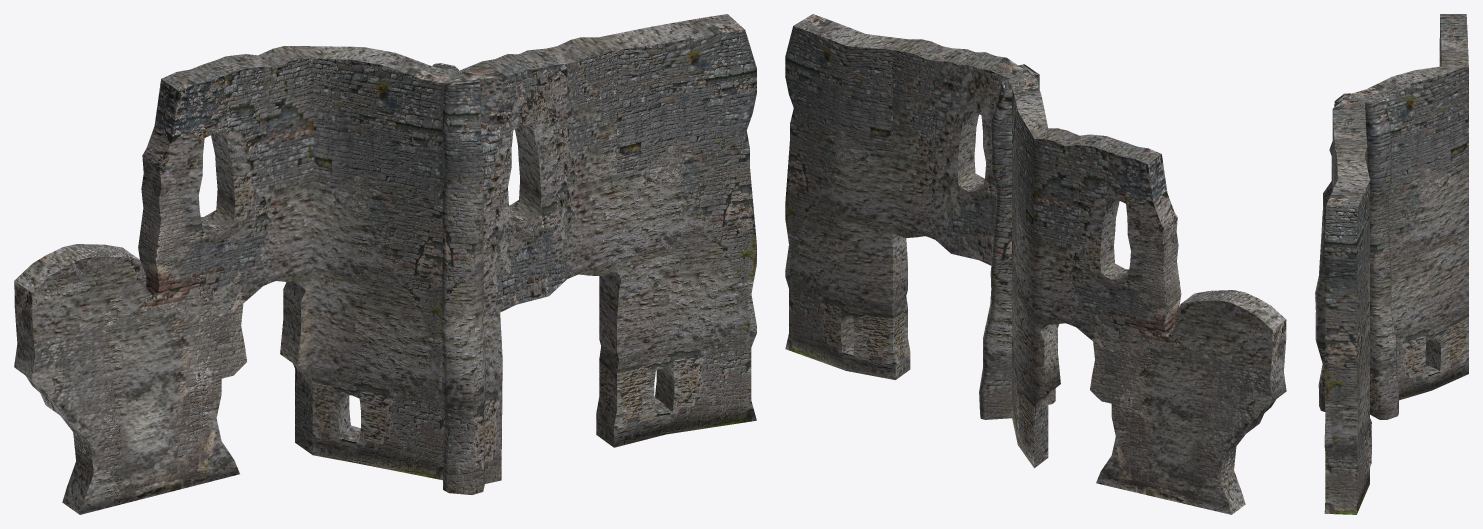
The model's file is castleruins piece seveteen.fbx.
The picture shows the model from 3 angles, left to right: view 1: azimuth 30°, elevation 25°; view 2: azimuth 150°, elevation 25°; view 3: azimuth 270°, elevation 25°; orthographic projection. The views are drawn at different scales.
Visible parts, largest first — view 1: castleruins_seveteen; view 2: castleruins_seveteen; view 3: castleruins_seveteen.
Part boxes in pixels (bbox=[...]): castleruins_seveteen: bbox=[14, 14, 756, 514]; castleruins_seveteen: bbox=[785, 14, 1286, 514]; castleruins_seveteen: bbox=[1315, 14, 1468, 514].
Bounding box in the file's own units: 758 × 449 × 198.
1 material, 1 textured.
